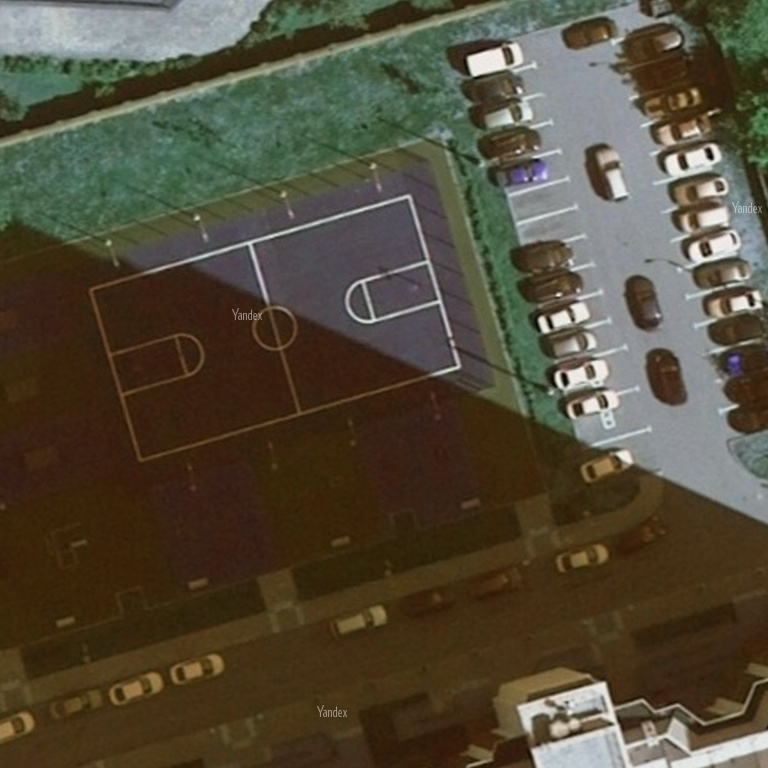basket_court: (67, 175, 480, 477)
